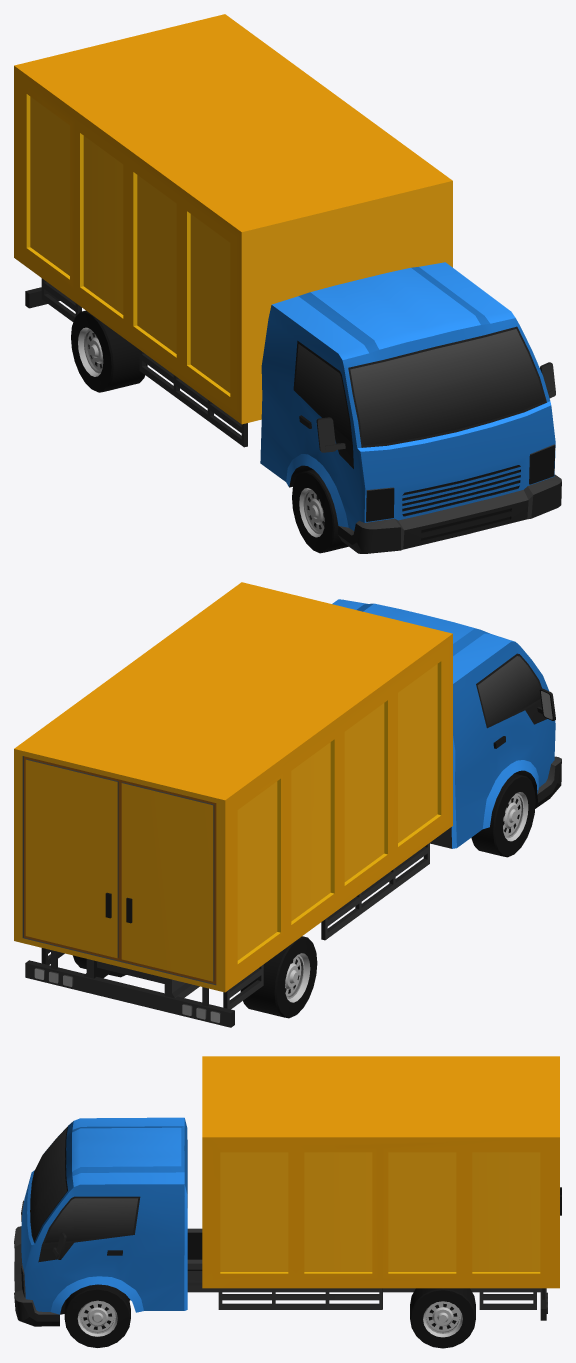
File: car2.fbx
3 views of the same model, one above another, from view 1: azimuth 30°, elevation 25°; view 2: azimuth 150°, elevation 25°; view 3: azimuth 270°, elevation 25° (orthographic). The views are drawn at different scales.
Parts seen in each view (by area): view 1: car_Kache; view 2: car_Kache; view 3: car_Kache.
Part boxes in pixels (<box>): car_Kache: <box>14,14,561,553</box>; car_Kache: <box>14,582,561,1027</box>; car_Kache: <box>14,1056,561,1348</box>.
Size of the model in its own units: 85.06 by 93.46 by 218.
